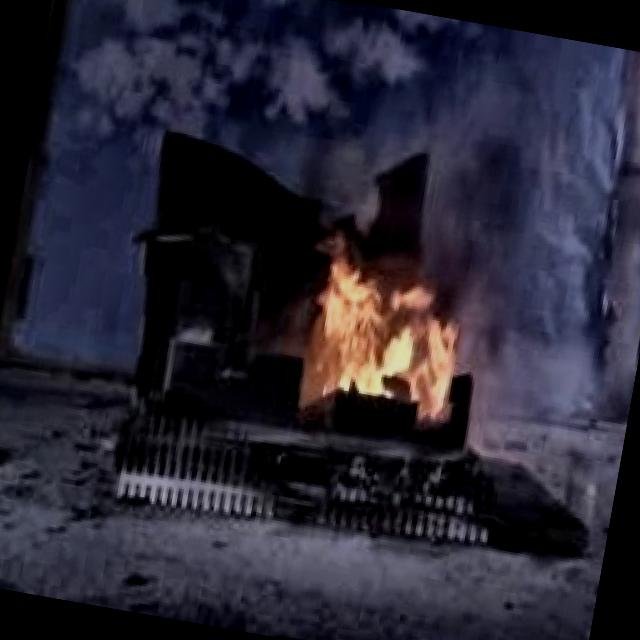fire: (262, 226, 496, 447)
